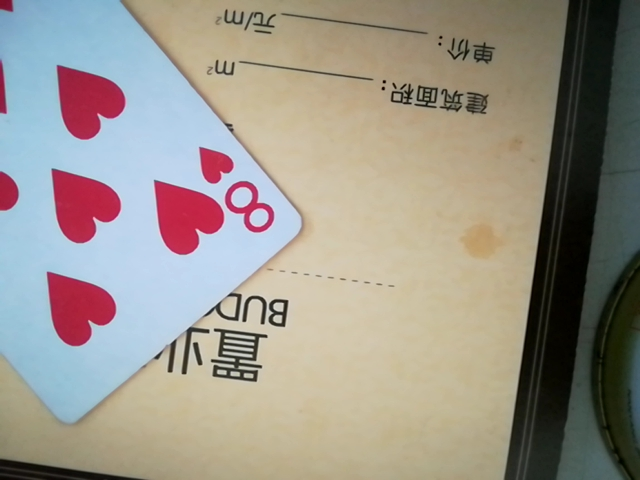hx 8: (0, 0, 297, 417)
